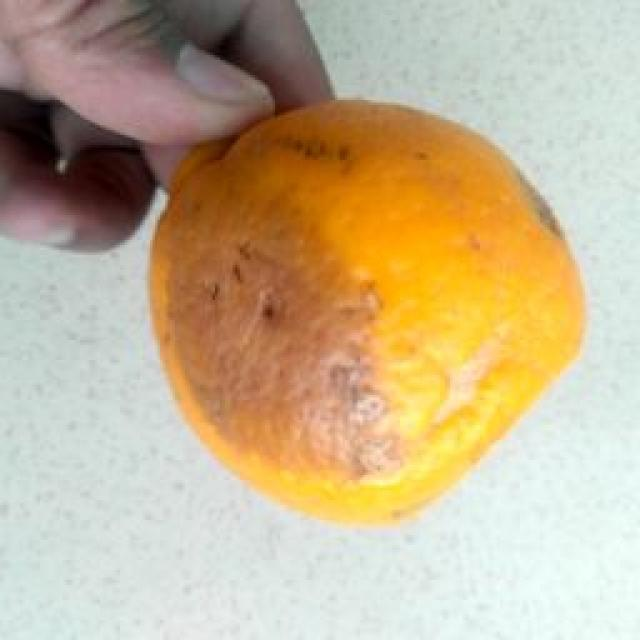Bad_Orange: (152, 101, 584, 523)
